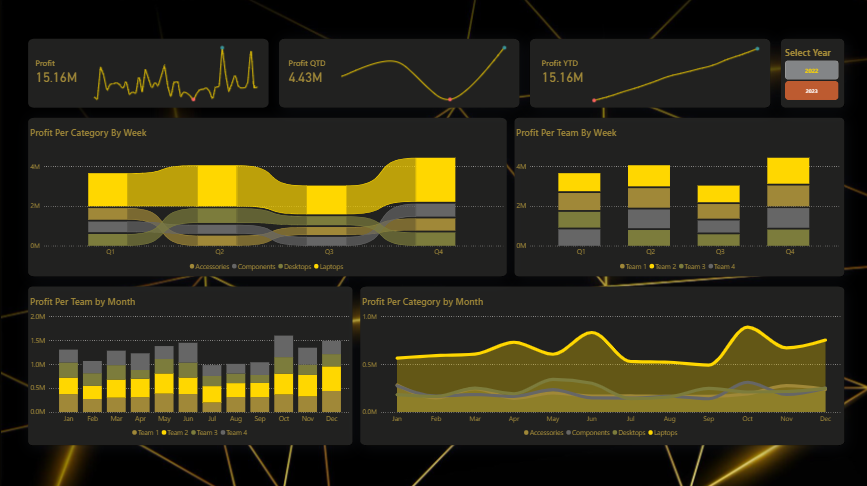

Layout of this report page (visuals, bound fields, positions):
{"tool":"powerbi","page":{"name":"Profit","canvas":[1920,1080],"ordinal":1},"visuals":[{"type":"ribbonChart","title":"Profit Per Category By Week","fields":{"Category":["calendar.Quarter"],"Y":["_Measures.Profit"],"Series":["products.Category"]},"box":[66,268,1046,340],"z":0},{"type":"areaChart","title":"Profit Per Category by Month","fields":{"Category":["calendar.Month"],"Y":["_Measures.Profit"],"Series":["products.Category"]},"box":[798,642,1056,334],"z":1000},{"type":"columnChart","title":"Profit Per Team by Month","fields":{"Category":["calendar.Month"],"Y":["_Measures.Profit"],"Series":["people.Team"]},"box":[66,642,708,334],"z":2000},{"type":"columnChart","title":"Profit Per Team By Week","fields":{"Category":["calendar.Quarter"],"Y":["_Measures.Profit"],"Series":["people.Team"]},"box":[1138,268,716,340],"z":3000},{"type":"cardVisual","title":"Key Performance Indicators","fields":{"Data":["_Measures.Profit","_Measures.Profit QTD","_Measures.Profit YTD"]},"box":[38,90,1698,142],"z":4000},{"type":"PBI_CV_25997FEB_F466_44FA_B562_AC4063283C4C","fields":{"measure":["_Measures.Profit"],"axis":["calendar.Week"]},"box":[190,90,400,142],"z":5000},{"type":"PBI_CV_25997FEB_F466_44FA_B562_AC4063283C4C","fields":{"measure":["_Measures.Profit QTD"],"axis":["calendar.Quarter"]},"box":[734,90,400,142],"z":6000},{"type":"PBI_CV_25997FEB_F466_44FA_B562_AC4063283C4C","fields":{"measure":["_Measures.Profit YTD"],"axis":["calendar.Month"]},"box":[1292,92,400,142],"z":7000},{"type":"advancedSlicerVisual","title":"Select Year","fields":{"Values":["calendar.Year"]},"box":[1730,103.1,118.5,120],"z":8000}]}

Visuals, with their boxes in screenshot pixels (x1, y1, x2, y2), scaled from the page's 1920x1080 canvas onto the 867x486 screenshot:
"Profit Per Category By Week" ribbonChart: 30, 121, 502, 274
"Profit Per Category by Month" areaChart: 360, 289, 837, 439
"Profit Per Team by Month" columnChart: 30, 289, 350, 439
"Profit Per Team By Week" columnChart: 514, 121, 837, 274
"Key Performance Indicators" cardVisual: 17, 40, 784, 104
PBI_CV_25997FEB_F466_44FA_B562_AC4063283C4C - _Measures.Profit x calendar.Week: 86, 40, 266, 104
PBI_CV_25997FEB_F466_44FA_B562_AC4063283C4C - _Measures.Profit QTD x calendar.Quarter: 331, 40, 512, 104
PBI_CV_25997FEB_F466_44FA_B562_AC4063283C4C - _Measures.Profit YTD x calendar.Month: 583, 41, 764, 105
"Select Year" advancedSlicerVisual: 781, 46, 835, 100
